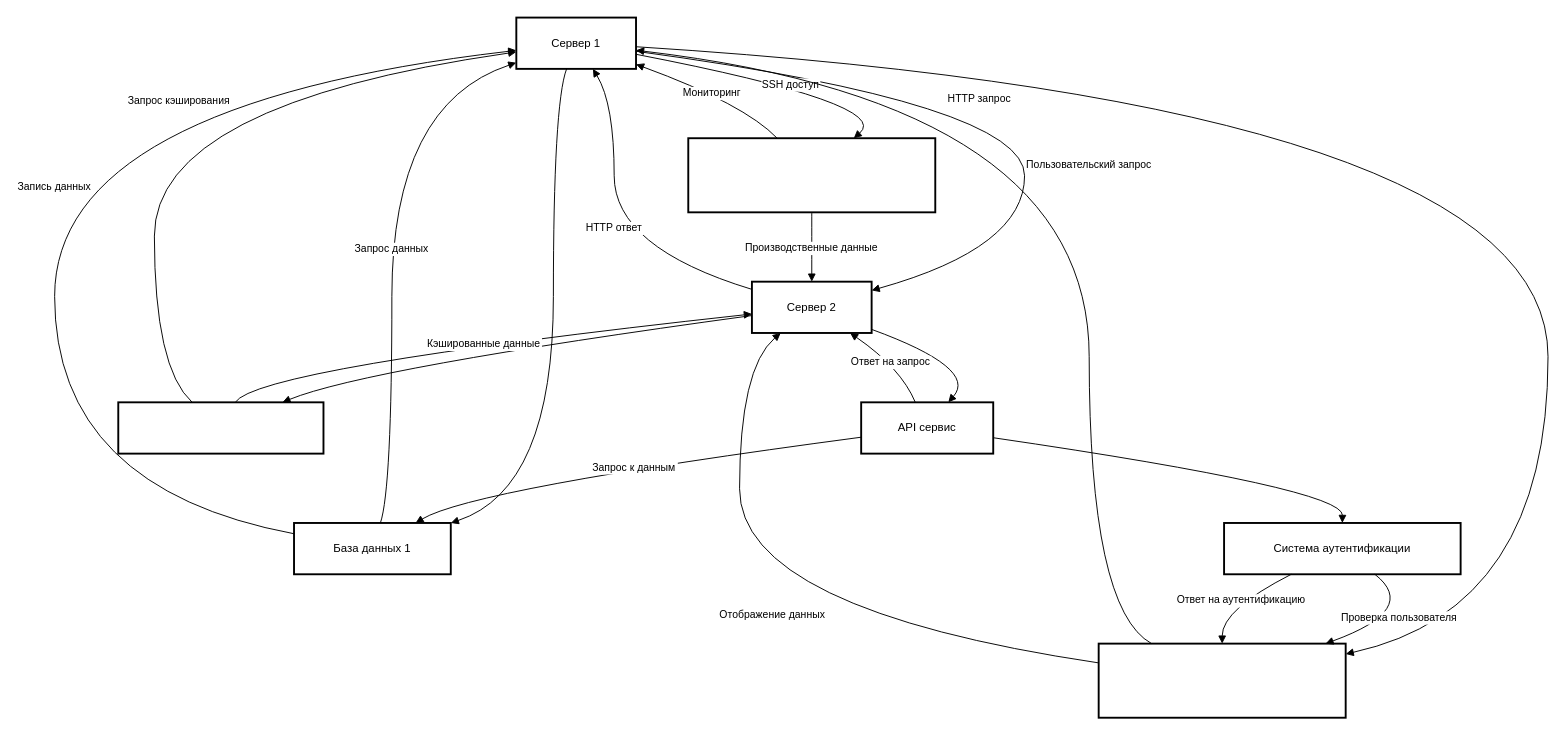
Image size: 1565x734. Some labels were removed from this diagram. The shapes that lost their labels are listed below. From the top down, each one's box as (x1, y1, x2, y2) in pixels, then its label:
(687, 137, 936, 213): Сервер администрирования
(117, 401, 324, 454): Сервер кэширования
(1097, 642, 1346, 718): Пользовательский интерфейс
